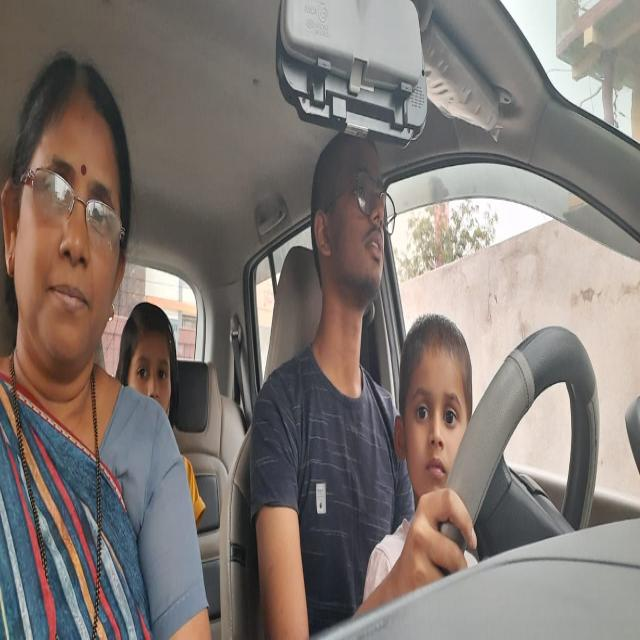child: (394, 315, 477, 522)
person: (0, 39, 130, 410), (311, 130, 401, 319), (118, 294, 181, 433)
